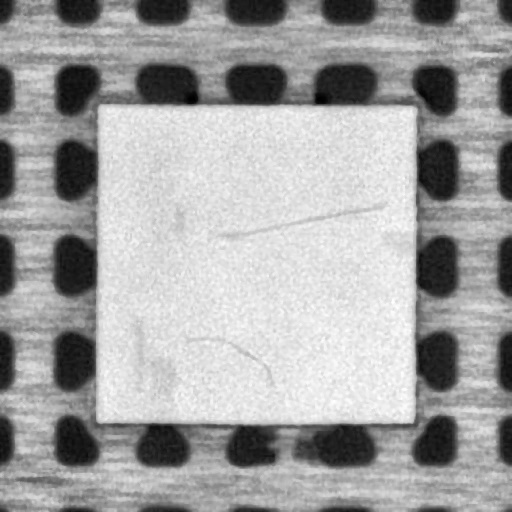DIE_CRACK: (214, 202, 389, 236), (187, 332, 271, 381)
